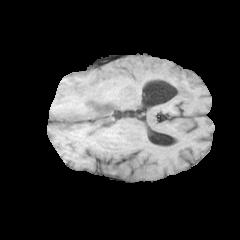glioma: (53, 68, 195, 128)
